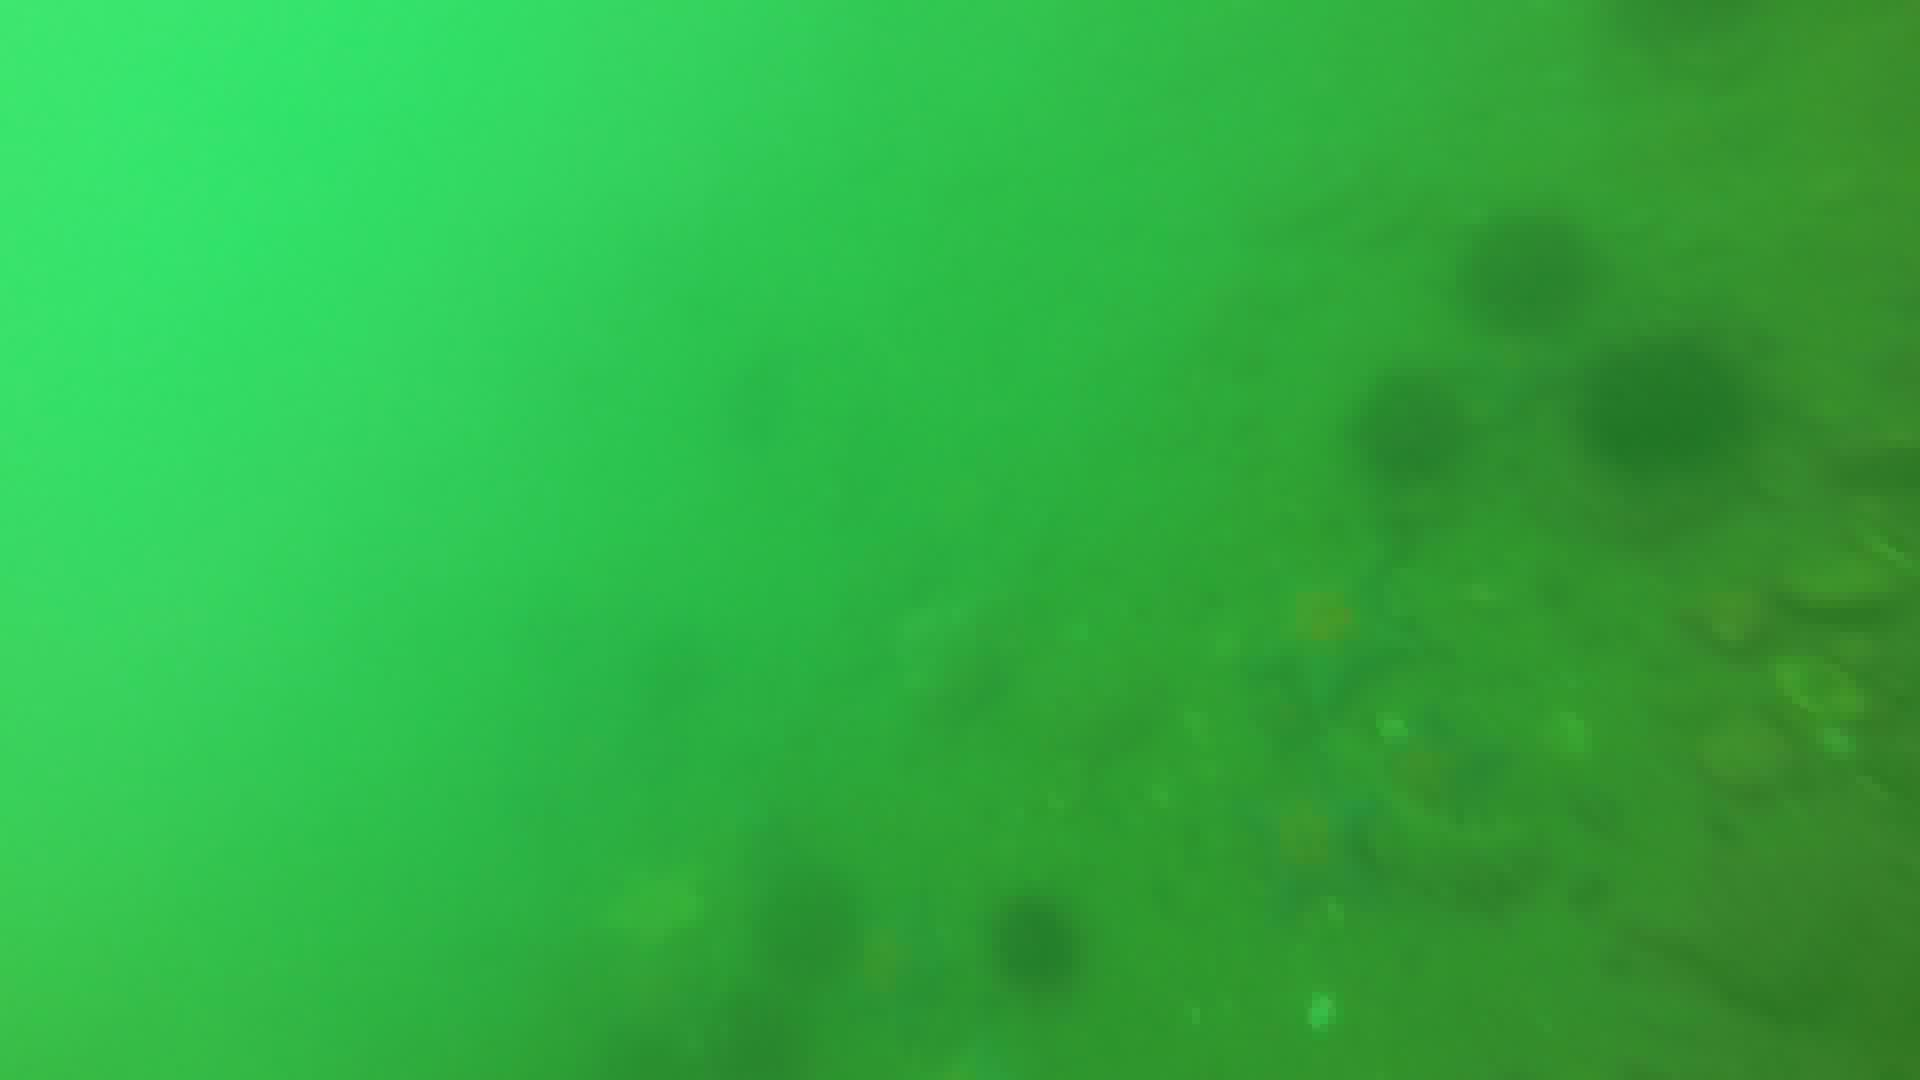echinus: (1569, 342, 1747, 467), (1469, 220, 1598, 324), (754, 856, 858, 978), (1357, 384, 1455, 477), (992, 901, 1065, 976)
holothurian: (1311, 724, 1536, 893)
scallop: (1774, 650, 1855, 727)
starfish: (1247, 554, 1422, 729), (1244, 767, 1386, 918)
